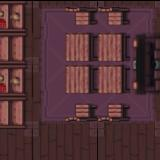Hide: (131, 30, 160, 97)
Obstacle: (64, 64, 98, 97), (97, 64, 130, 97), (64, 32, 98, 64), (64, 0, 98, 31), (0, 96, 32, 128), (0, 64, 32, 96), (0, 31, 32, 63), (98, 96, 130, 128), (98, 32, 130, 64), (97, 0, 130, 31), (64, 97, 98, 127), (0, 0, 32, 31)
